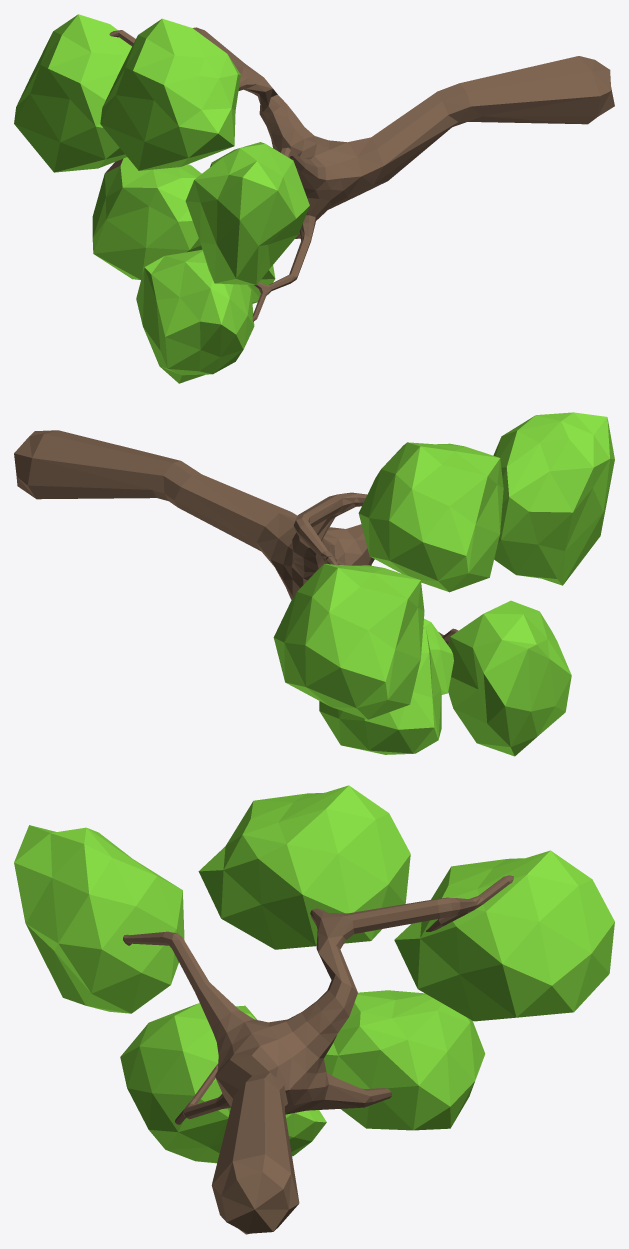
Rendered from tree4.dae.
3 renders of one model, top to bottom at view 1: azimuth 30°, elevation 25°; view 2: azimuth 150°, elevation 25°; view 3: azimuth 270°, elevation 25°, orthographic. The views are drawn at different scales.
Parts seen in each view (by area): view 1: Tree1.3; view 2: Tree1.3; view 3: Tree1.3.
Part boxes in pixels (x1=…): Tree1.3: x1=14, y1=14, x2=614, y2=383; Tree1.3: x1=14, y1=412, x2=614, y2=756; Tree1.3: x1=14, y1=785, x2=614, y2=1234.
Size of the model in its own units: 4.24 by 3.66 by 2.69.
Materials: 1 (1 with a texture image).
